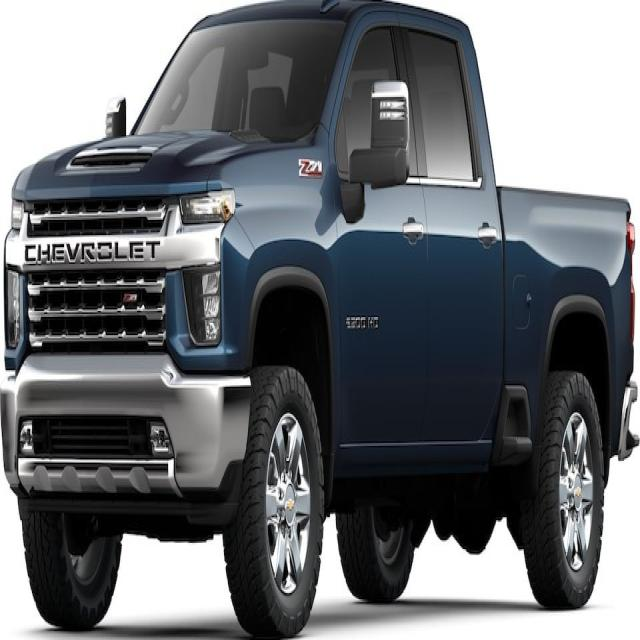blue: (8, 4, 640, 640)
